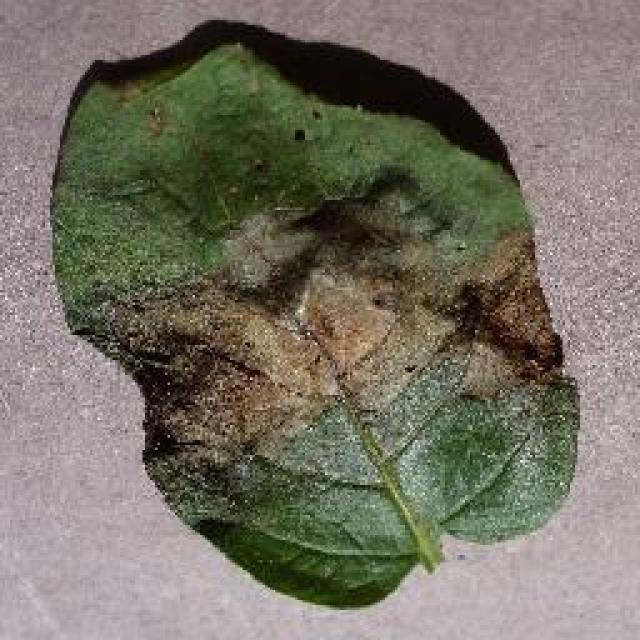green waste: (27, 31, 583, 630)
